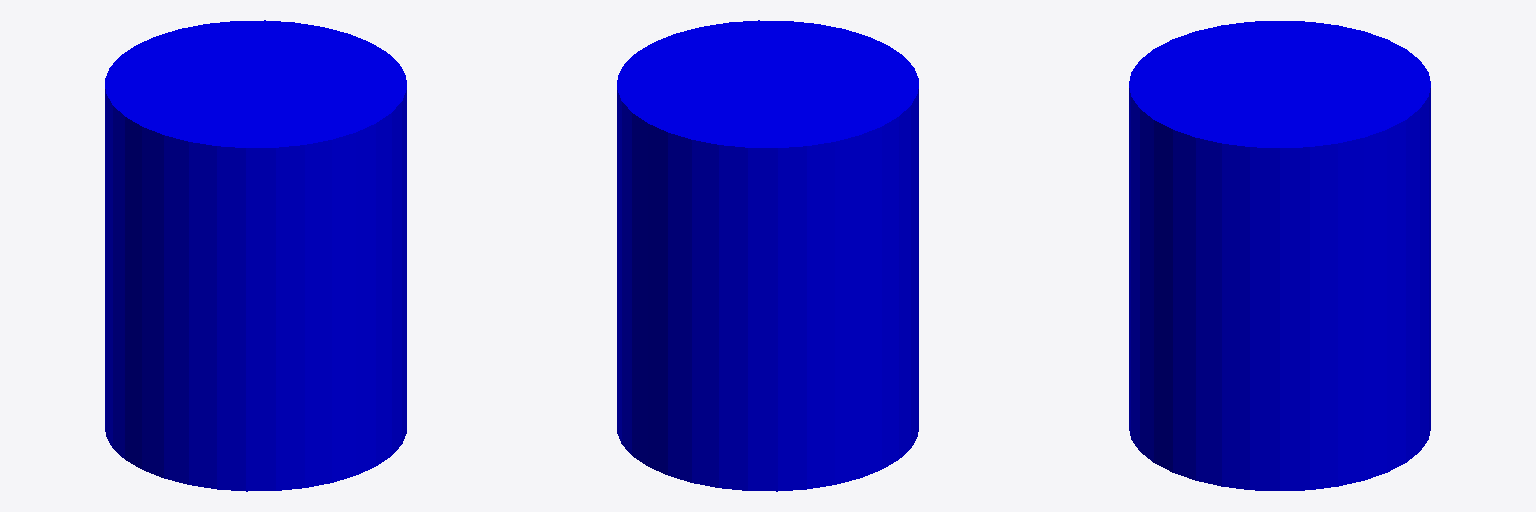
URDF robot description (building):
<?xml version="1.0" ?>

<robot name="building">

  <link name="base_link"> 

    <inertial>
      <origin rpy="0 0 0" xyz="0 0 0"/>
      <mass value="0.3"/>
      <inertia ixx="0" ixy="0.0" ixz="0.0" iyy="0" iyz="0.0" izz="0"/>
    </inertial>

    <visual>
      <origin rpy="0 0 0" xyz="0 0 0"/>
      <geometry>
        <!-- <box size=".5 .5 1.5" /> -->
        <cylinder radius=".6" length="1.5"/>
      </geometry> 
      <material name="blue">
        <color rgba="0. 0. 1. 0.7"/>
      </material> 
    </visual>

    <collision>
      <origin rpy="0 0 0" xyz="0 0 0"/>
      <geometry>
        <!-- <box size=".5 .5 1.5" /> -->
        <cylinder radius=".6" length="1.5"/>
      </geometry>
    </collision>  

  </link>

</robot>

--- Facts derived from the render (not from the file) ---
3 views of the same robot in one strip: view 1: azimuth 30°, elevation 25°; view 2: azimuth 150°, elevation 25°; view 3: azimuth 270°, elevation 25° (orthographic).
Robot: building — 1 links, 0 joints (none); root link base_link; default pose: every joint at zero.
Visible links, largest first — view 1: base_link; view 2: base_link; view 3: base_link.
Link boxes in pixels (x1,y1,x2,y2): base_link: (105, 20, 406, 491); base_link: (617, 20, 918, 491); base_link: (1129, 21, 1430, 490).
Size in the robot's own frame: 1.2 by 1.2 by 1.5 metres.
Geometry: primitives only (box / cylinder / sphere), no mesh files.